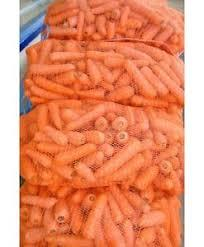Organic: (19, 1, 196, 239)
